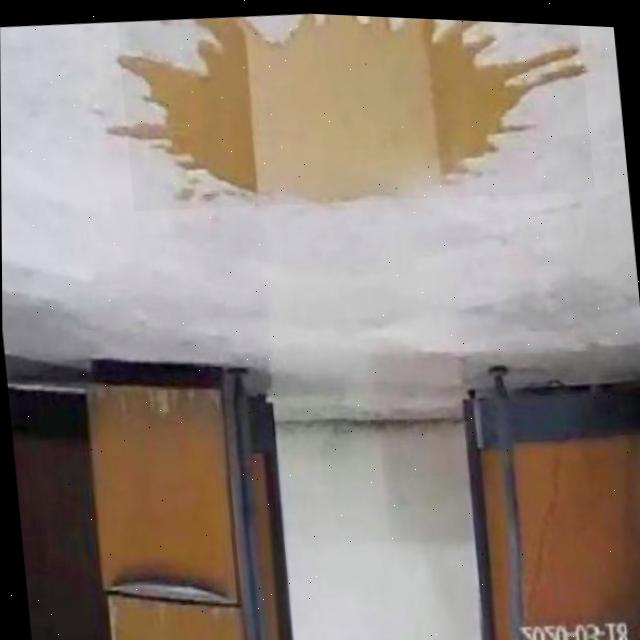spillage: (119, 11, 582, 200)
